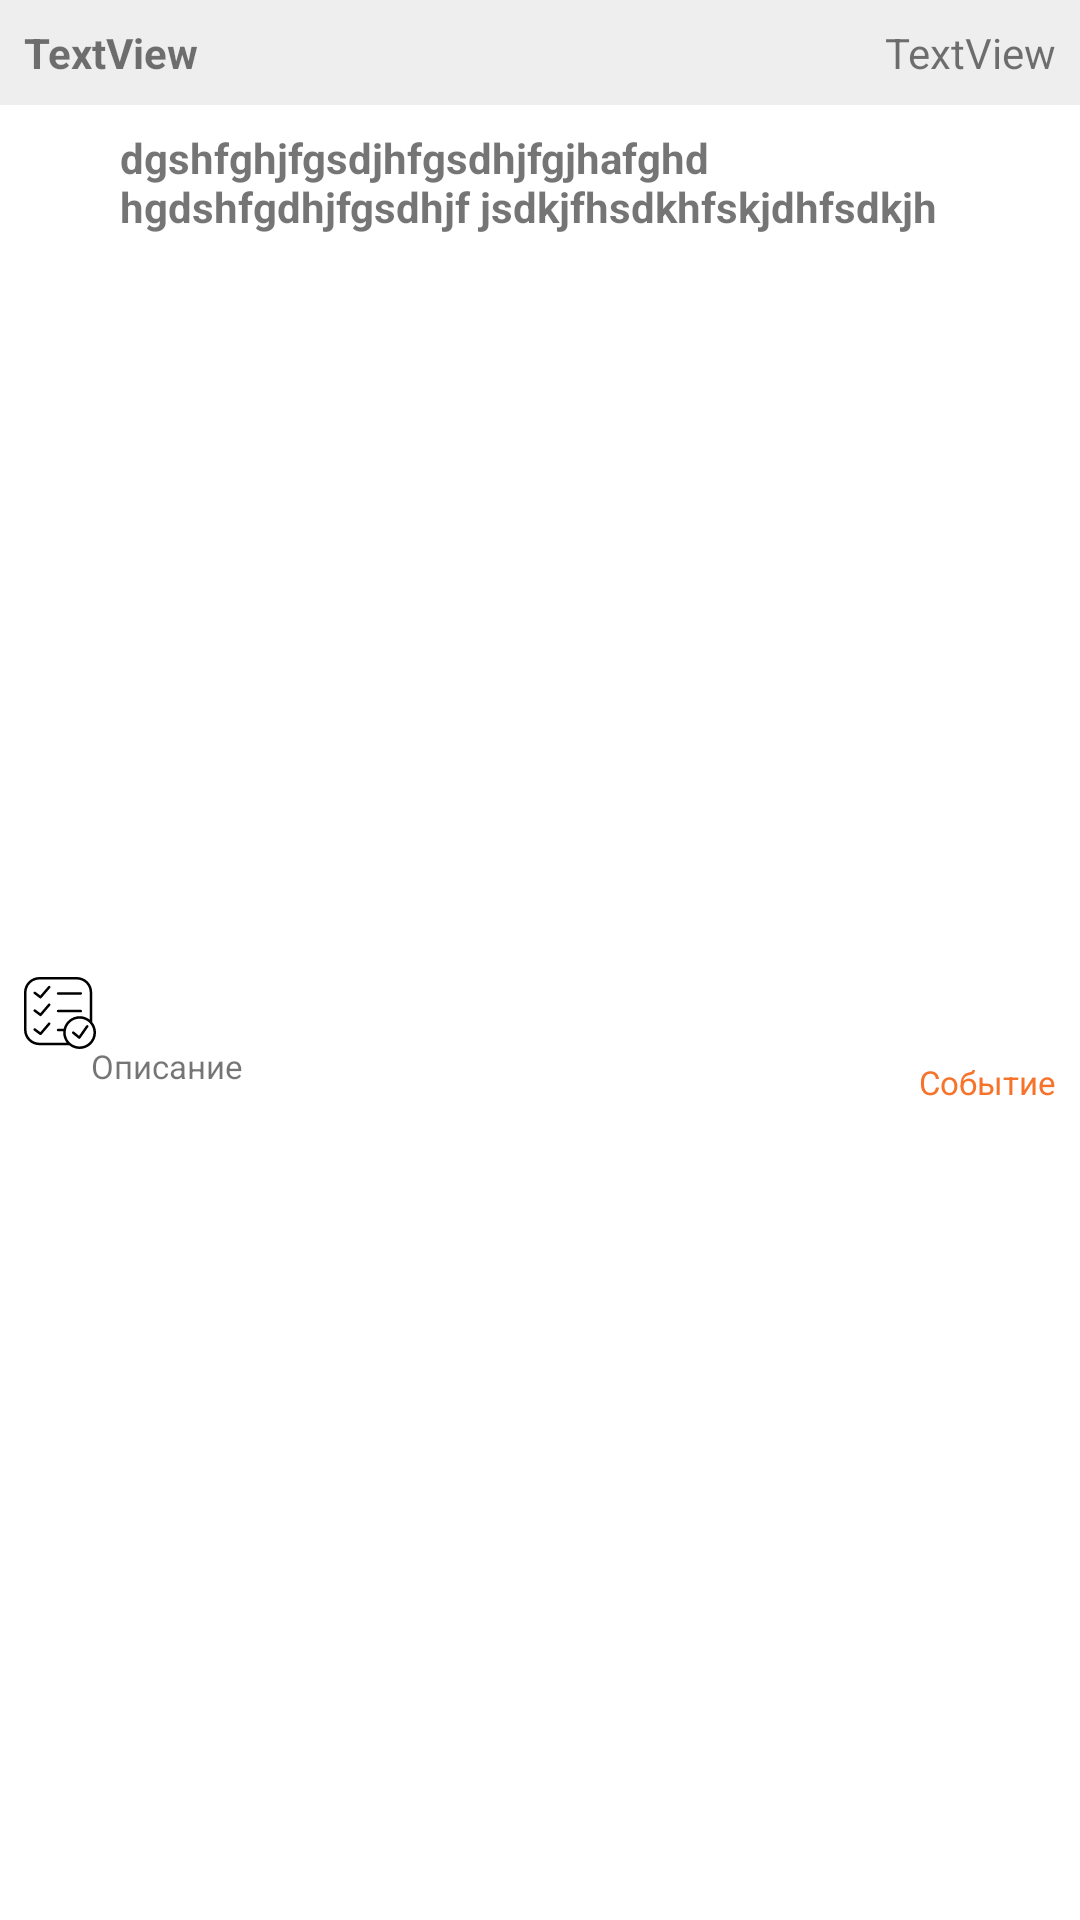

Locate icon controls on the screen. Image size 1080px×1920px, boxes as [x1, y1, x2, y2].
task todo: [24, 977, 96, 1049]
